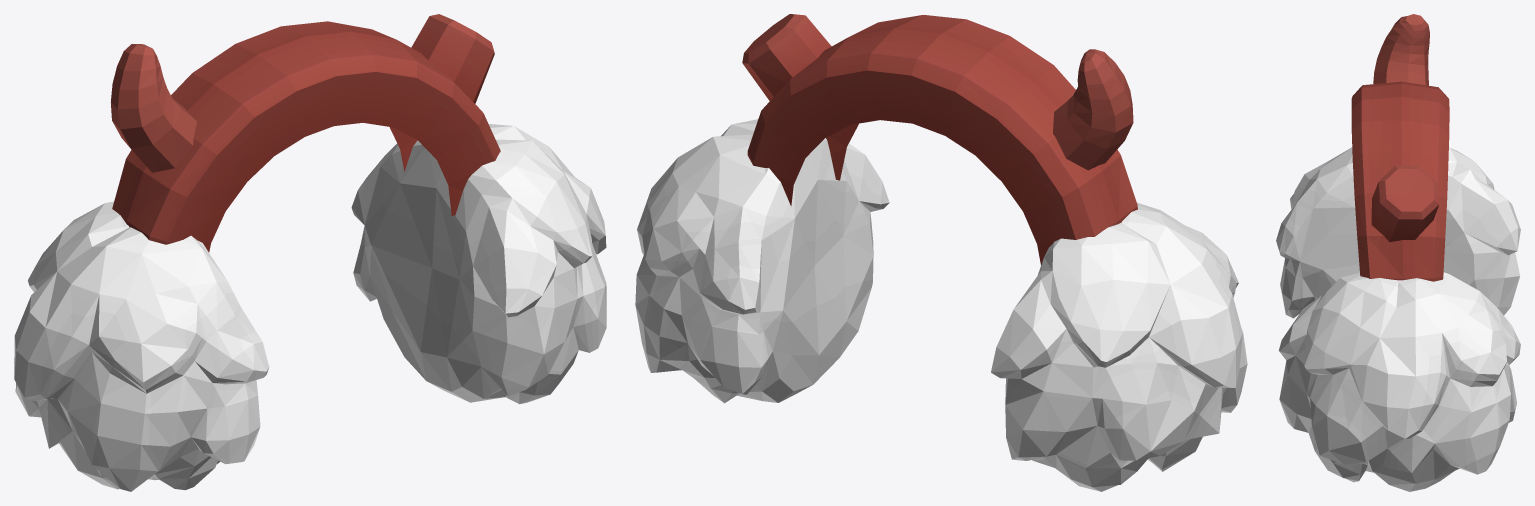
Rendered from CharSkyKid_Horn_YetiEarMuffs.glb.
3 views of the same model, side by side, from view 1: azimuth 30°, elevation 25°; view 2: azimuth 150°, elevation 25°; view 3: azimuth 270°, elevation 25° (orthographic). The views are drawn at different scales.
Visible parts, largest first — view 1: CharSkyKid_Horn_YetiEarMuffs; view 2: CharSkyKid_Horn_YetiEarMuffs; view 3: CharSkyKid_Horn_YetiEarMuffs.
Boxes of the visible parts, <box> form: CharSkyKid_Horn_YetiEarMuffs: <box>14,14,606,491</box>; CharSkyKid_Horn_YetiEarMuffs: <box>635,14,1247,491</box>; CharSkyKid_Horn_YetiEarMuffs: <box>1276,14,1520,491</box>.
Size of the model in its own units: 4.19 by 2.87 by 1.92.
Materials: 1 (1 with a texture image).
